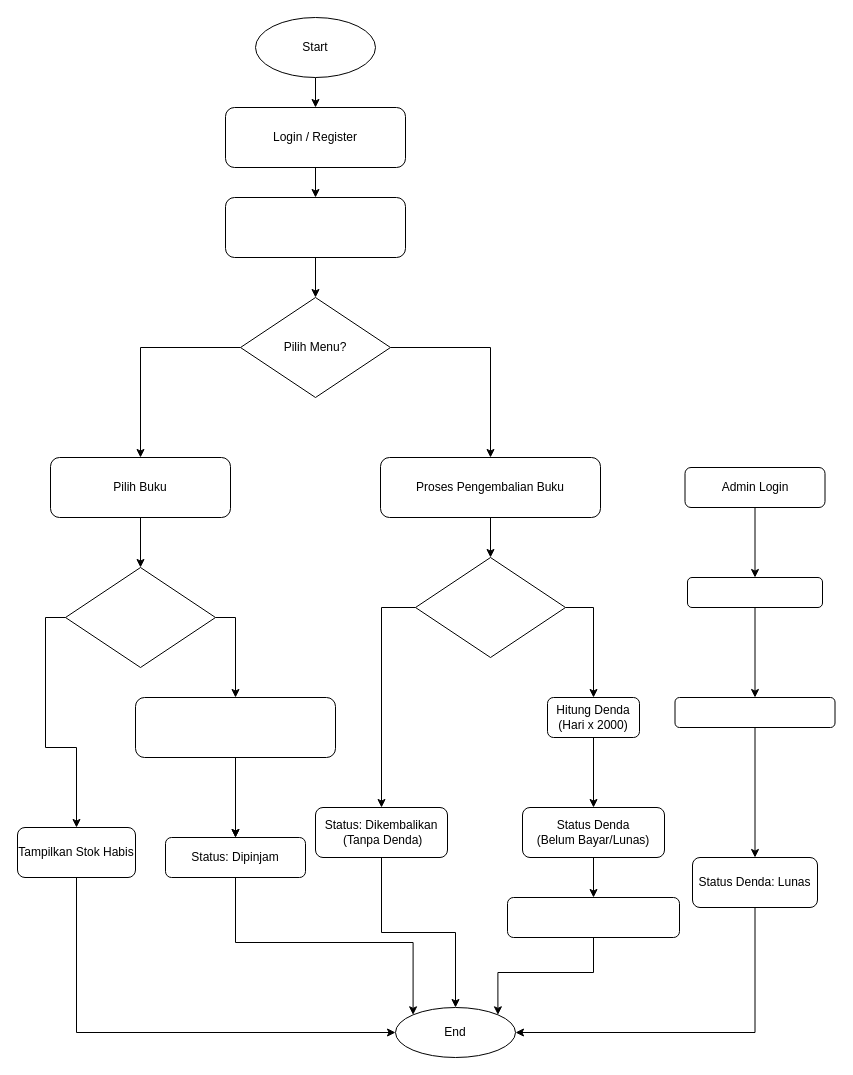
The diagram is 853 pixels wide and 1075 high, and some of its shapes have lost their labels. Here are the shapes that lost their labels. From the top down, the box of each, then its label:
(224, 196, 406, 258): Masuk Dashboard
(414, 556, 566, 658): Terlambat?
(686, 576, 822, 608): Cek Data Denda
(64, 566, 216, 668): Stok Tersedia?
(134, 696, 336, 758): Simpan Data Peminjaman dan Tetapkan Jatuh Tempo (7 Hari)
(674, 696, 835, 728): Konfirmasi Pembayaran
(506, 896, 680, 938): Menunggu Konfirmasi Admin
